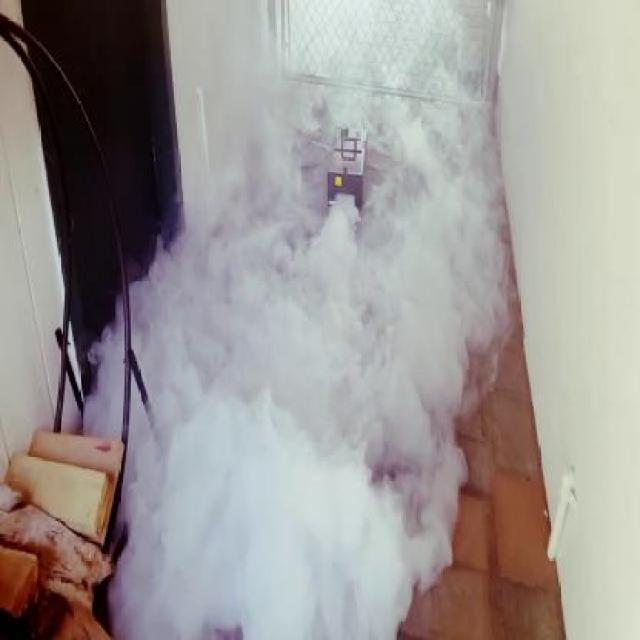Smoke: (87, 33, 510, 640)
